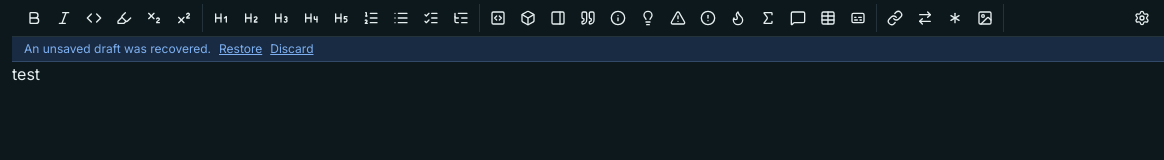
Test: AsciiDocEditor › draft recovery banner › restoreDraft clears the banner when Restore is clicked
The width and height of the screenshot is (1164, 160).
What coordinates should you click on to do the following:
click the button "Restore"
I would click on:
 (241, 49)
Its box is [219, 41, 262, 57].
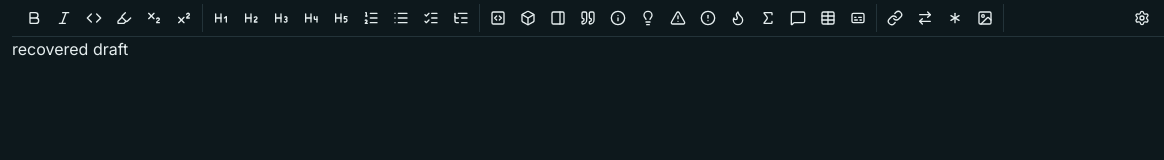
Expected: the text "An unsaved draft was recovered." is gone
